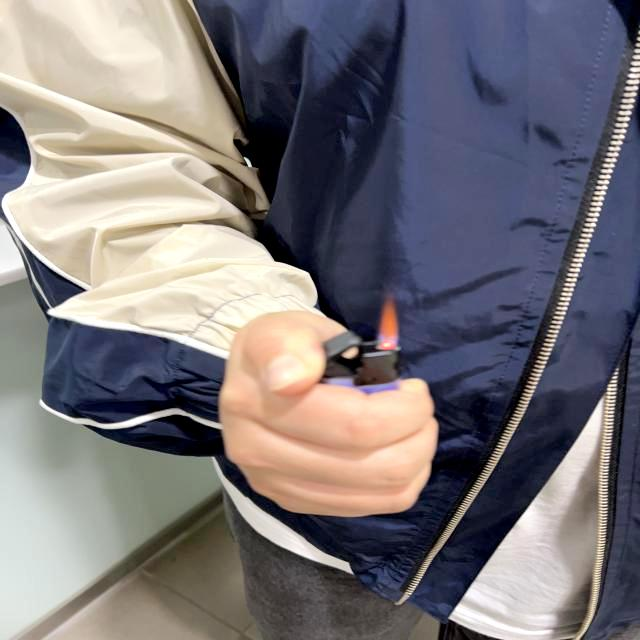fire: (376, 299, 398, 351)
